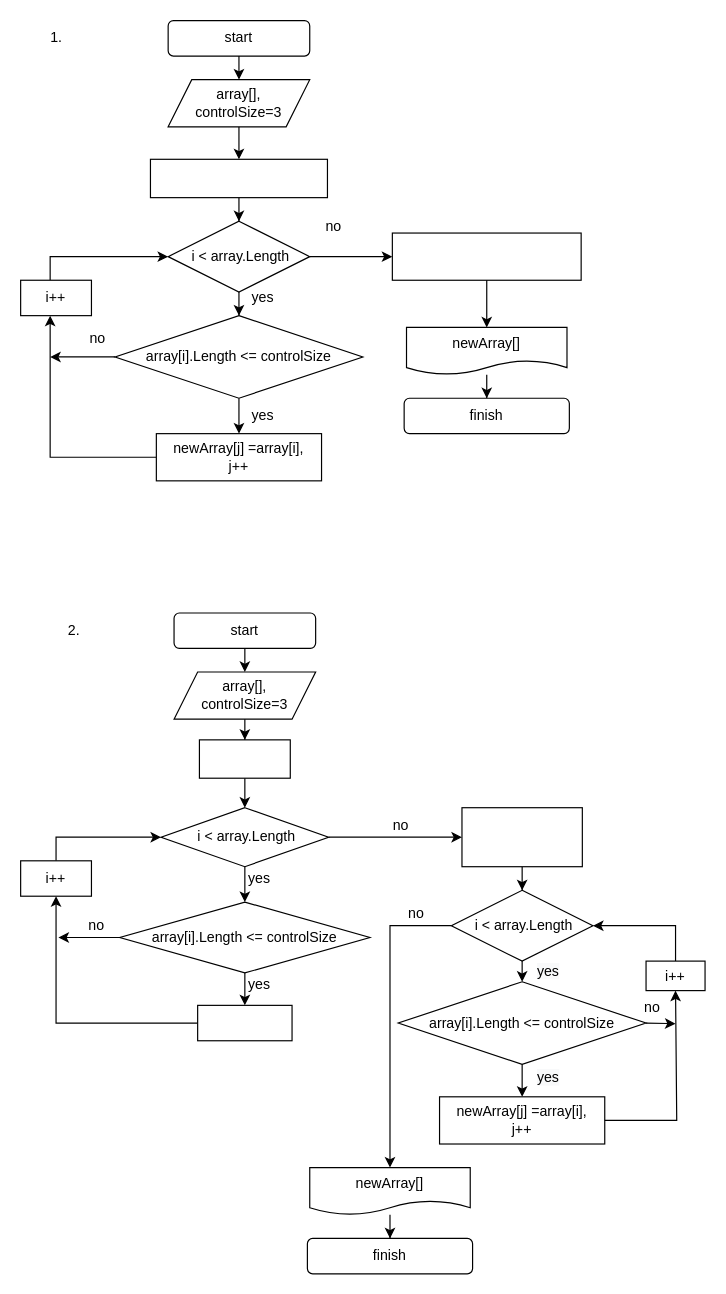
Image size: 726x1294. Some labels were removed from this diagram. Here are the shapes that lost their labels. From the top down, the box of each, then its label:
(149, 158, 327, 198): newArray[], j=0, i=0
(391, 232, 581, 280): Array.Resize(newArray[], j)
(198, 739, 290, 778): size=0
(461, 807, 582, 867): size, newArray[size], j=0
(196, 1004, 292, 1041): size++
